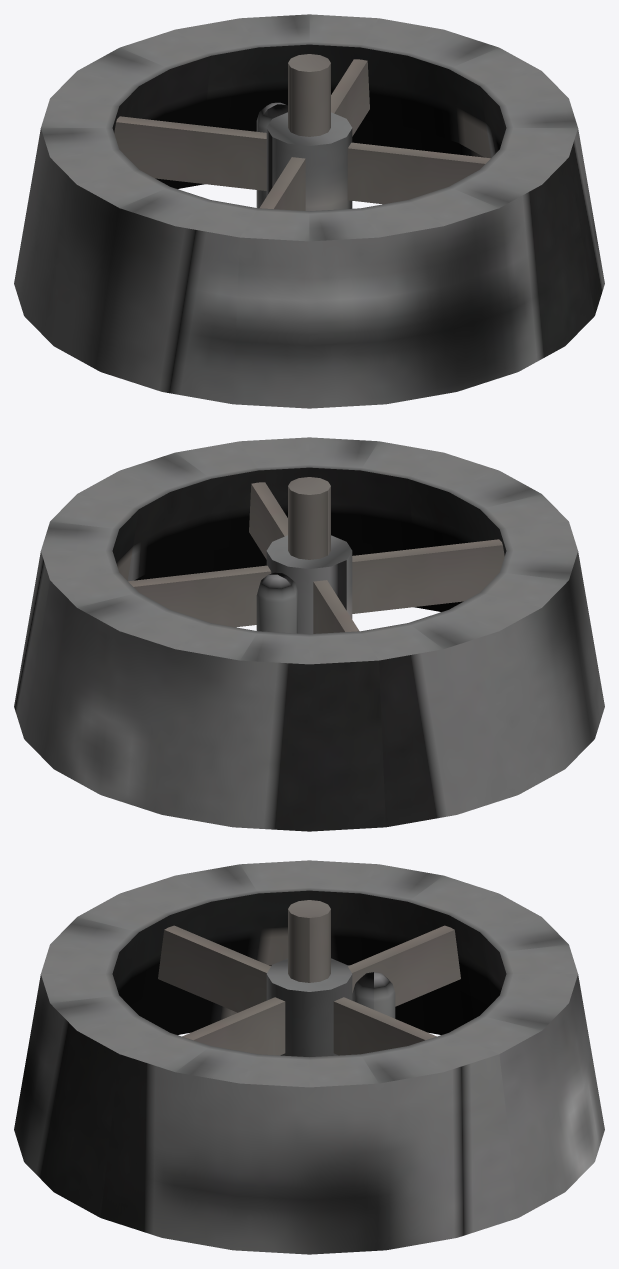
Rendered from Arrow_Engine_0p5_1.obj.
3 renders of one model, top to bottom at view 1: azimuth 30°, elevation 25°; view 2: azimuth 150°, elevation 25°; view 3: azimuth 270°, elevation 25°, orthographic.
Parts seen in each view (by area): view 1: Arrow_Engine_0p5_1; view 2: Arrow_Engine_0p5_1; view 3: Arrow_Engine_0p5_1.
Part boxes in pixels (box(x1,y1,x2,y2)): Arrow_Engine_0p5_1: box(14, 14, 604, 408); Arrow_Engine_0p5_1: box(14, 437, 604, 831); Arrow_Engine_0p5_1: box(14, 860, 604, 1254).
Size of the model in its own units: 1.03 by 0.55 by 1.03.
